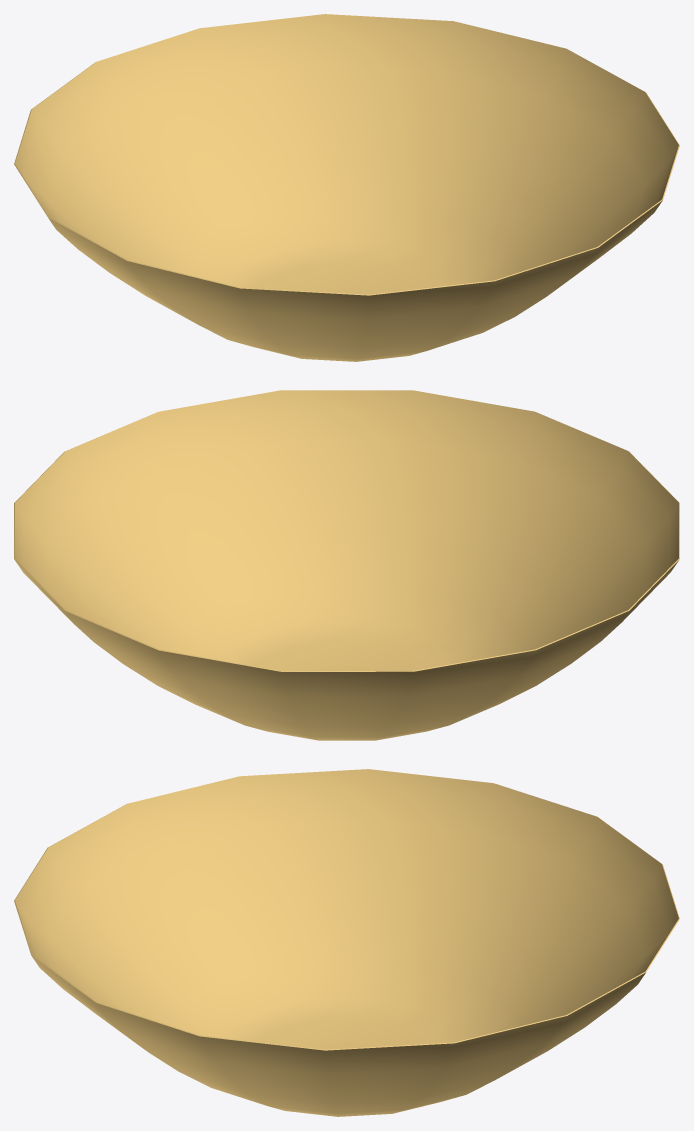
Rendered from Bowl.FBX.
3 renders of one model, top to bottom at view 1: azimuth 30°, elevation 25°; view 2: azimuth 150°, elevation 25°; view 3: azimuth 270°, elevation 25°, orthographic.
Visible parts, largest first — view 1: Object003; view 2: Object003; view 3: Object003.
Part boxes in pixels (x1=…): Object003: x1=14, y1=14, x2=679, y2=361; Object003: x1=14, y1=390, x2=679, y2=740; Object003: x1=14, y1=769, x2=679, y2=1116.
Bounding box in the file's own units: 167 × 43.14 × 167.
